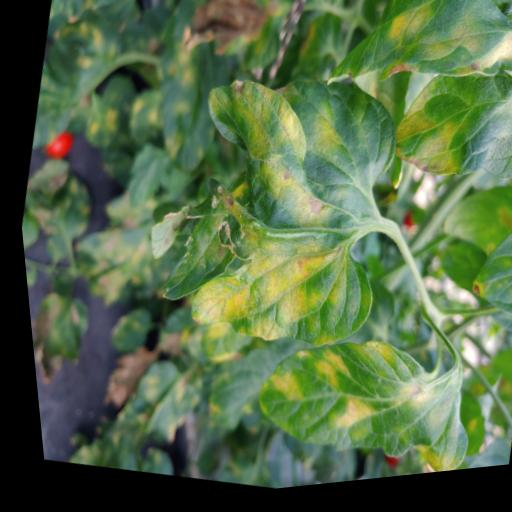Leaf Mold: (111, 45, 419, 380), (232, 315, 480, 495), (315, 0, 512, 146), (378, 58, 512, 213), (452, 212, 512, 334)
